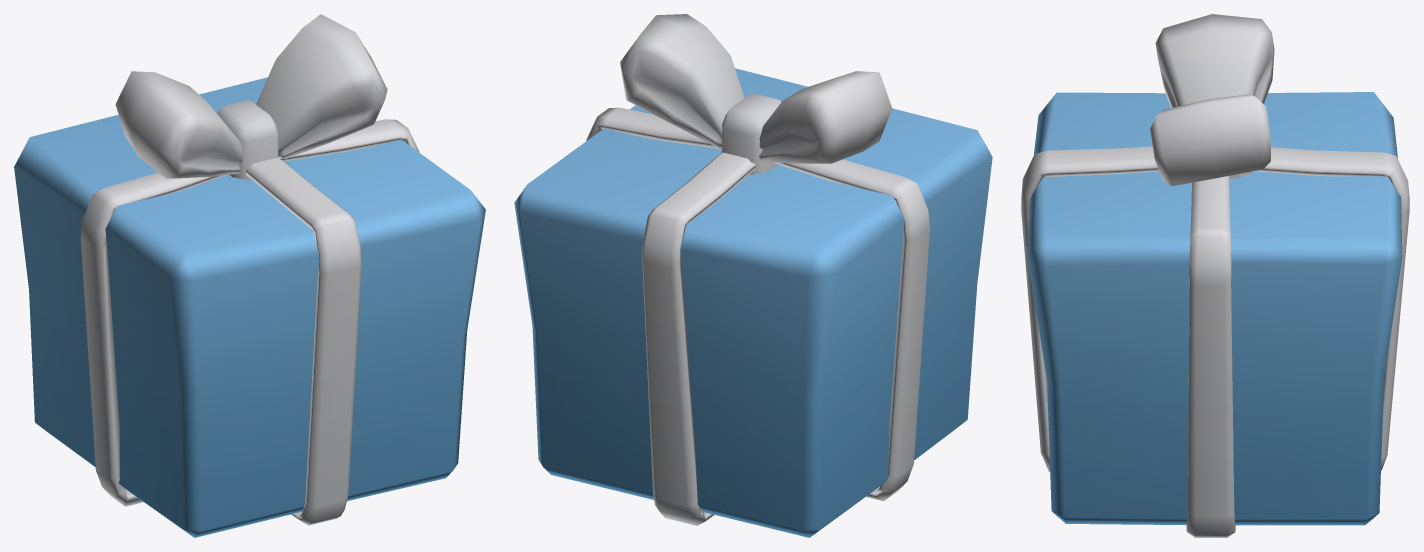
Rendered from CharSkyKid_Neck_PresentBodyA.glb.
3 views of the same model, side by side, from view 1: azimuth 30°, elevation 25°; view 2: azimuth 150°, elevation 25°; view 3: azimuth 270°, elevation 25° (orthographic).
Visible parts, largest first — view 1: CharSkyKid_Neck_PresentBodyA; view 2: CharSkyKid_Neck_PresentBodyA; view 3: CharSkyKid_Neck_PresentBodyA.
Part boxes in pixels (bbox=[...]): CharSkyKid_Neck_PresentBodyA: bbox=[14, 14, 485, 537]; CharSkyKid_Neck_PresentBodyA: bbox=[514, 14, 992, 537]; CharSkyKid_Neck_PresentBodyA: bbox=[1021, 14, 1409, 537].
Size of the model in its own units: 15.17 by 18.79 by 15.35.
Materials: 1 (1 with a texture image).
